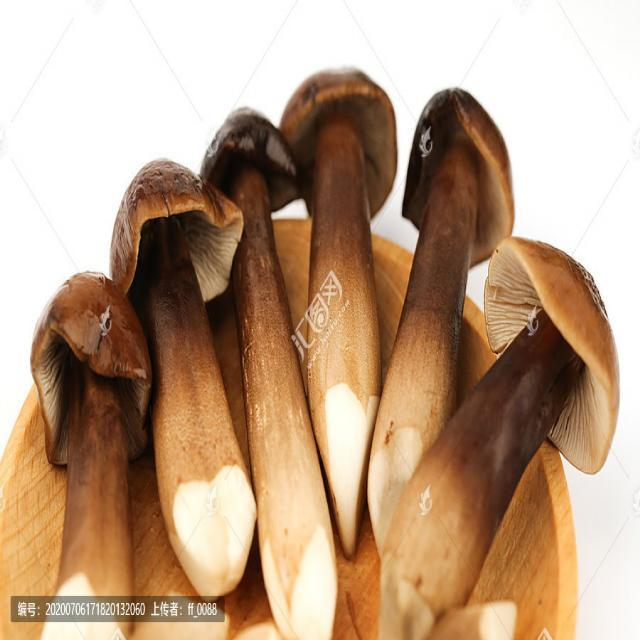Collybia albuminosa: (389, 235, 620, 635), (199, 105, 336, 638), (370, 81, 515, 558), (110, 159, 256, 599), (283, 66, 396, 549), (31, 266, 154, 599)
